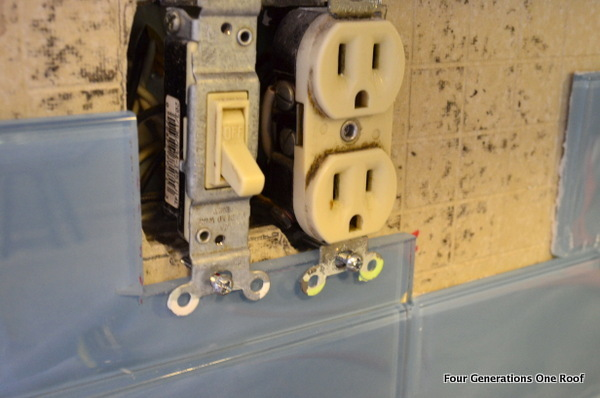outlet: (330, 39, 386, 114), (326, 165, 379, 236)
